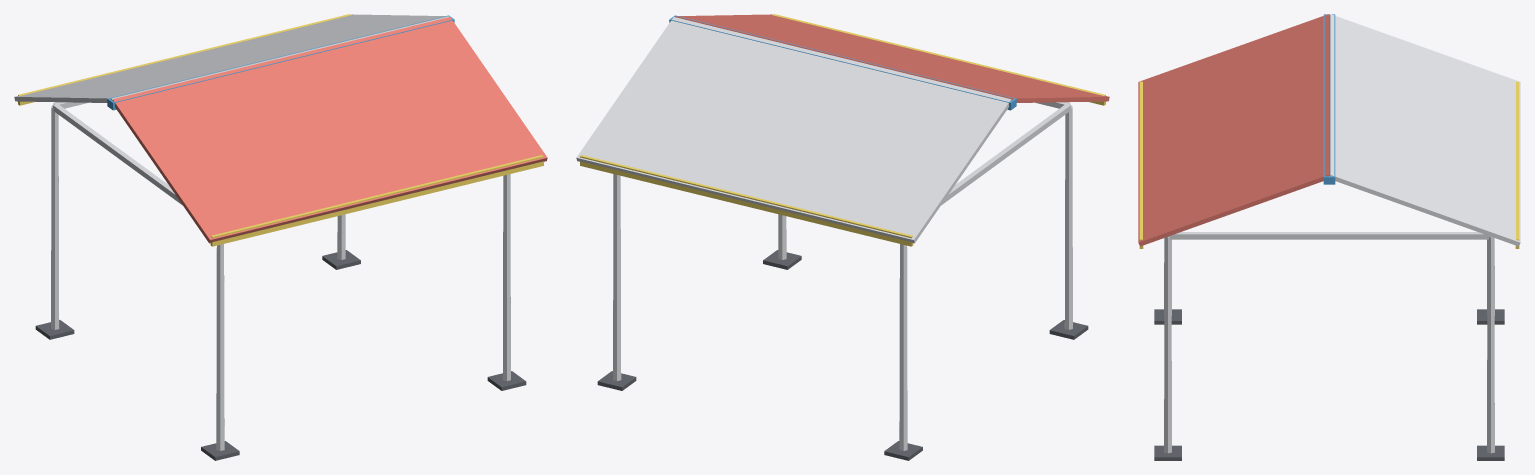
The model's file is dog-agility-and-training-field-shade-gazebo-red-1ef24b1f__35605.glb.
The picture shows the model from 3 angles, left to right: view 1: azimuth 30°, elevation 25°; view 2: azimuth 150°, elevation 25°; view 3: azimuth 270°, elevation 25°; orthographic projection. The views are drawn at different scales.
Visible parts, largest first — view 1: shade-gazebo-red-azure, shade-gazebo-red-steel, shade-gazebo-red-sunflower, shade-gazebo-red-charcoal, shade-gazebo-red-poppy; view 2: shade-gazebo-red-steel, shade-gazebo-red-azure, shade-gazebo-red-sunflower, shade-gazebo-red-charcoal, shade-gazebo-red-poppy; view 3: shade-gazebo-red-steel, shade-gazebo-red-azure, shade-gazebo-red-charcoal, shade-gazebo-red-sunflower, shade-gazebo-red-poppy.
Part boxes in pixels (box(x1,y1,x2,y2)): shade-gazebo-red-azure: box(112, 17, 547, 243); shade-gazebo-red-steel: box(14, 14, 510, 450); shade-gazebo-red-sunflower: box(18, 14, 543, 246); shade-gazebo-red-charcoal: box(35, 250, 526, 460); shade-gazebo-red-poppy: box(107, 15, 454, 110); shade-gazebo-red-steel: box(576, 17, 1072, 450); shade-gazebo-red-azure: box(674, 14, 1109, 102); shade-gazebo-red-sunflower: box(580, 14, 1105, 246); shade-gazebo-red-charcoal: box(597, 250, 1088, 460); shade-gazebo-red-poppy: box(669, 15, 1016, 110); shade-gazebo-red-steel: box(1164, 14, 1520, 453); shade-gazebo-red-azure: box(1138, 14, 1329, 246); shade-gazebo-red-charcoal: box(1154, 309, 1504, 460); shade-gazebo-red-sunflower: box(1139, 81, 1519, 248); shade-gazebo-red-poppy: box(1323, 14, 1335, 184).
Bounding box in the file's own units: 3.34 × 2.8 × 3.31.
